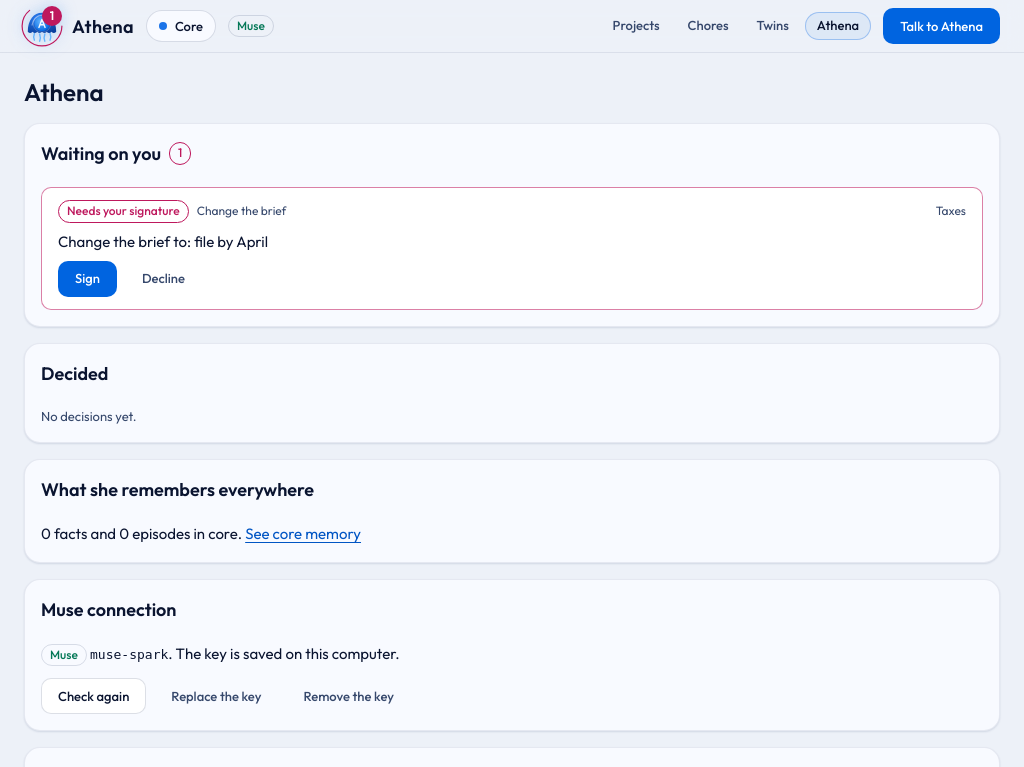
Test: Athena view › signs a waiting card from here and reloads the cards
expect the text "Taxes" is shown: met, box [936,202,966,220]
Click the button "Sign". click: (87, 278)
box: [58,260,117,296]
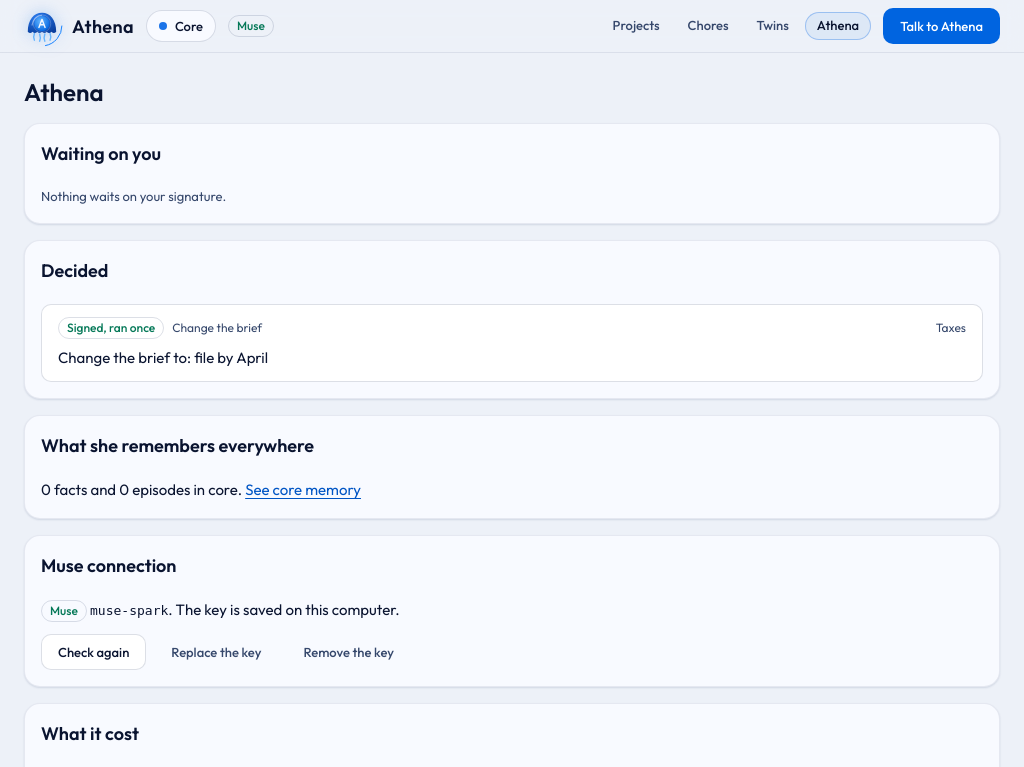
expect the text "Nothing waits on your signature." is shown: met, box [41,188,226,204]
expect the text "Signed, ran once" is shown: met, box [58,316,164,339]
